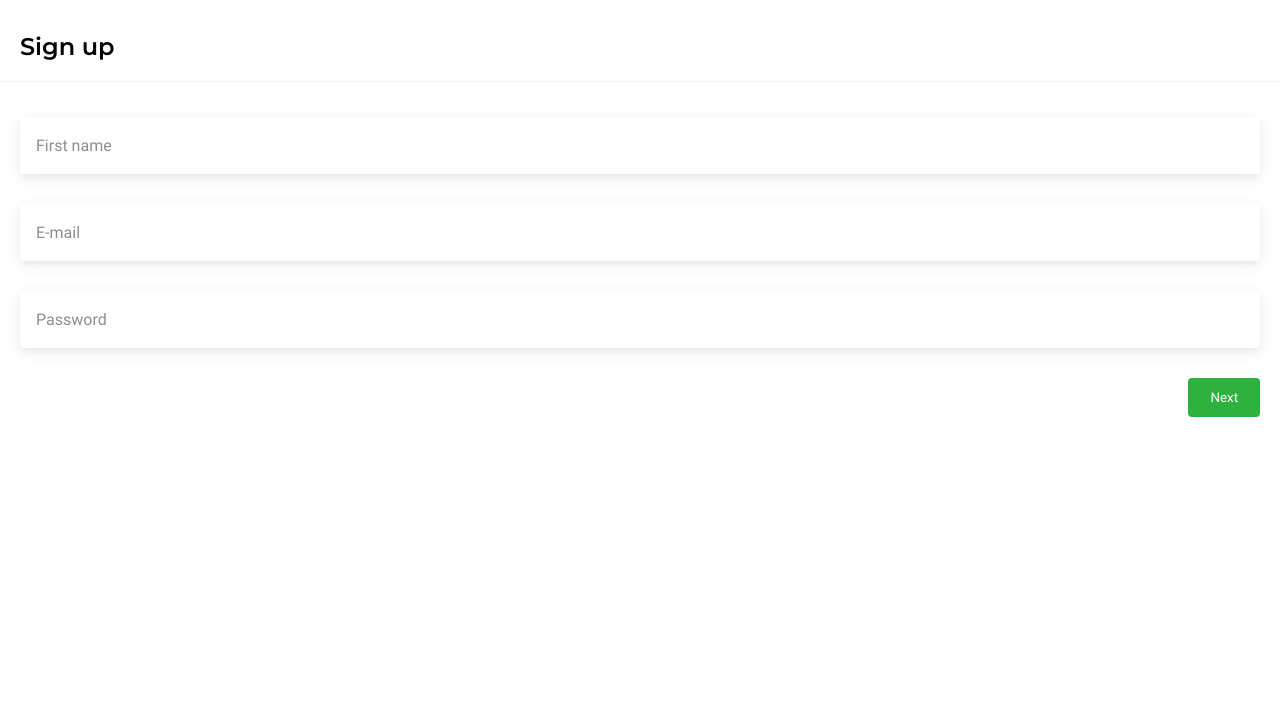
Test case: Personal info page › should show required error
The width and height of the screenshot is (1280, 720).
Click the button "Next". click: (1224,398)
box: [1188,378,1260,417]
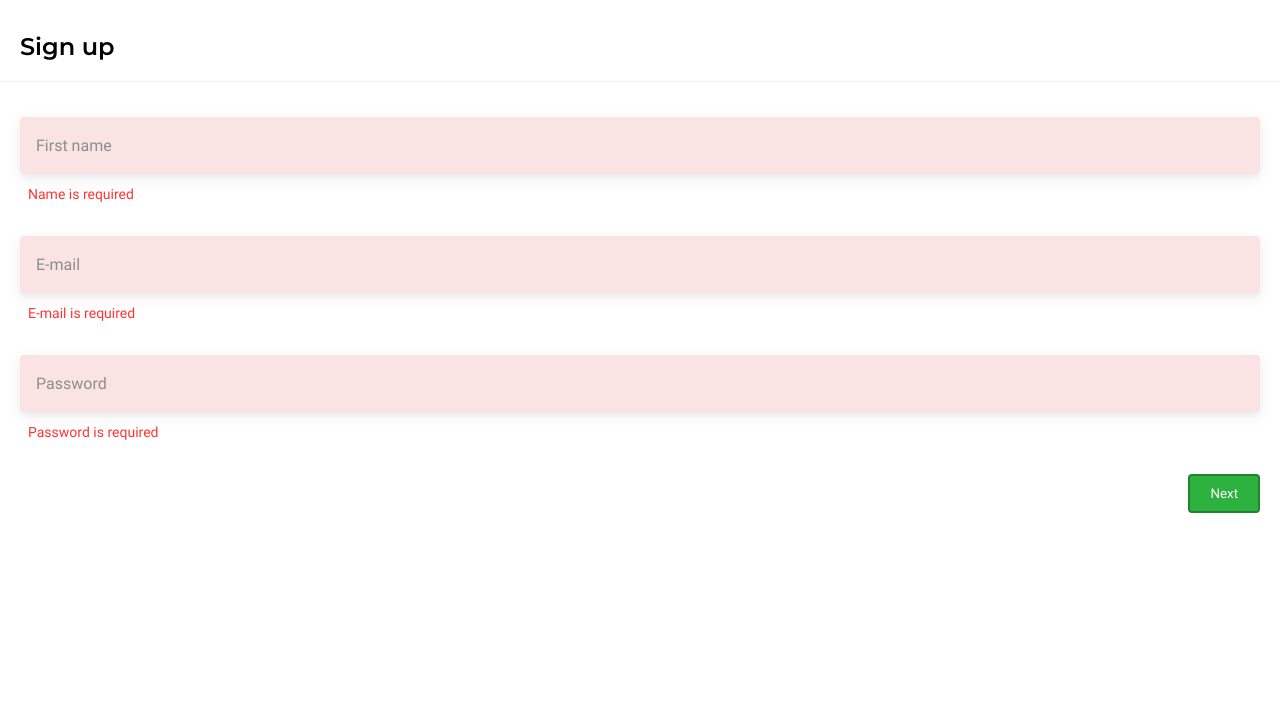
Expected: the text "Name is required" is shown, [28,186,134,202]
Expected: the text "E-mail is required" is shown, [28,305,135,321]
Expected: the text "Password is required" is shown, [28,424,158,440]
